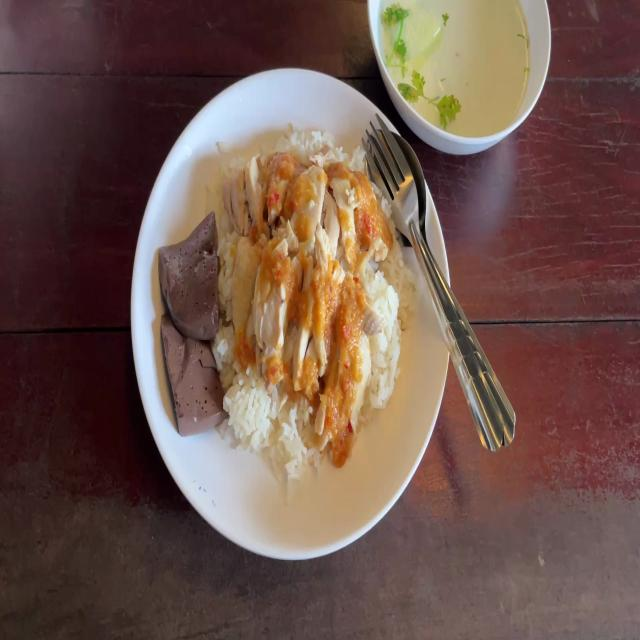chicken_rice: (222, 165, 386, 415)
noodle: (158, 214, 220, 350), (162, 312, 223, 434)
